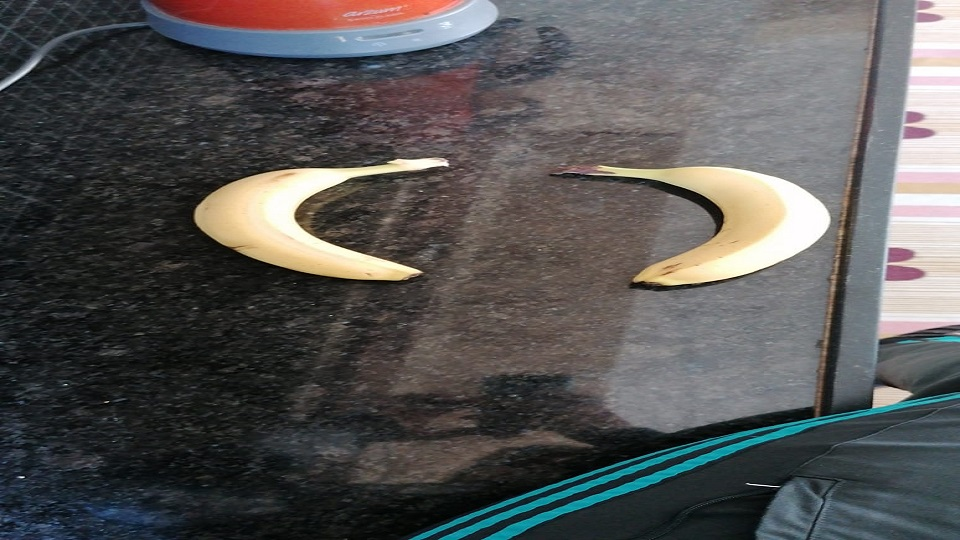muz: (556, 163, 833, 290), (191, 155, 452, 285)
